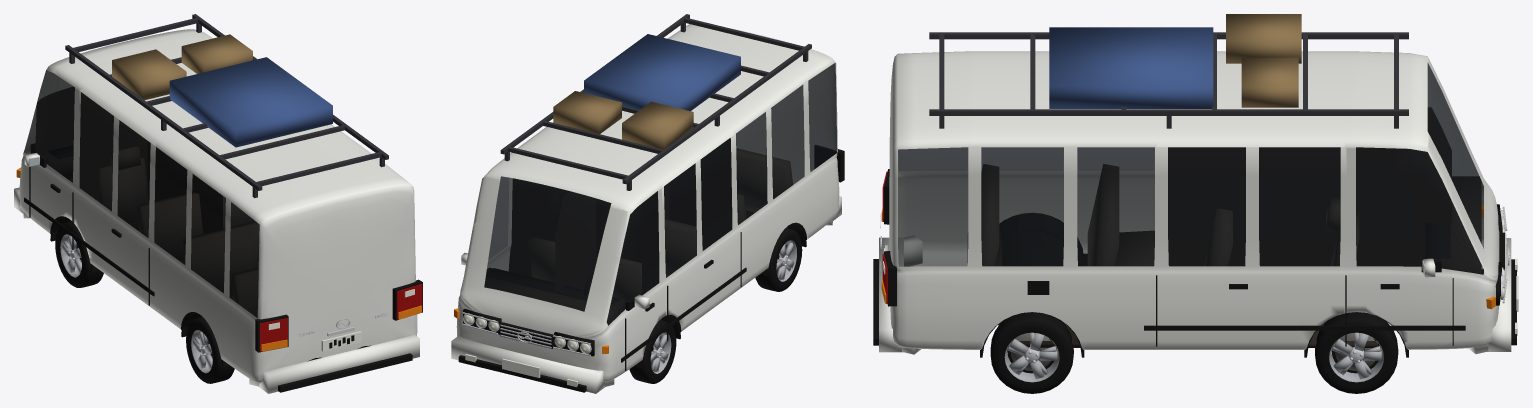
Rendered from veh_minibus.glb.
The picture shows the model from 3 angles, left to right: view 1: azimuth 30°, elevation 25°; view 2: azimuth 150°, elevation 25°; view 3: azimuth 270°, elevation 25°; orthographic projection. The views are drawn at different scales.
Visible parts, largest first — view 1: veh_minibus_caisse, veh_minibus_details, porte_g1, veh_minibus_interieur, porte_g0, veh_minibus_roue_arg, veh_minibus_roue_avg; view 2: veh_minibus_caisse, veh_minibus_details, porte_g1, veh_minibus_interieur, porte_g0, porte_d0, veh_minibus_roue_arg, veh_minibus_roue_avg; view 3: veh_minibus_caisse, veh_minibus_details, porte_d1, porte_d0, veh_minibus_interieur, veh_minibus_roue_ard, veh_minibus_roue_avd, porte_g0.
Boxes of the visible parts, left/top/right/bottom form: veh_minibus_caisse: left=19, top=29, right=417, bottom=383; veh_minibus_details: left=14, top=14, right=422, bottom=393; porte_g1: left=74, top=91, right=154, bottom=300; veh_minibus_interieur: left=30, top=143, right=259, bottom=344; porte_g0: left=31, top=67, right=78, bottom=229; veh_minibus_roue_arg: left=186, top=317, right=234, bottom=383; veh_minibus_roue_avg: left=55, top=221, right=103, bottom=287; veh_minibus_caisse: left=456, top=24, right=839, bottom=381; veh_minibus_details: left=451, top=14, right=844, bottom=393; porte_g1: left=662, top=134, right=739, bottom=327; veh_minibus_interieur: left=484, top=148, right=792, bottom=348; porte_g0: left=555, top=189, right=666, bottom=366; porte_d0: left=473, top=176, right=545, bottom=271; veh_minibus_roue_arg: left=755, top=227, right=802, bottom=291; veh_minibus_roue_avg: left=629, top=319, right=676, bottom=383; veh_minibus_caisse: left=889, top=51, right=1499, bottom=349; veh_minibus_details: left=873, top=14, right=1518, bottom=357; porte_d1: left=1157, top=147, right=1344, bottom=342; porte_d0: left=1347, top=108, right=1451, bottom=342; veh_minibus_interieur: left=967, top=164, right=1481, bottom=347; veh_minibus_roue_ard: left=990, top=312, right=1073, bottom=393; veh_minibus_roue_avd: left=1315, top=312, right=1398, bottom=393; porte_g0: left=1428, top=58, right=1451, bottom=148.
Size of the model in its own units: 2.18 by 2.58 by 5.12.
